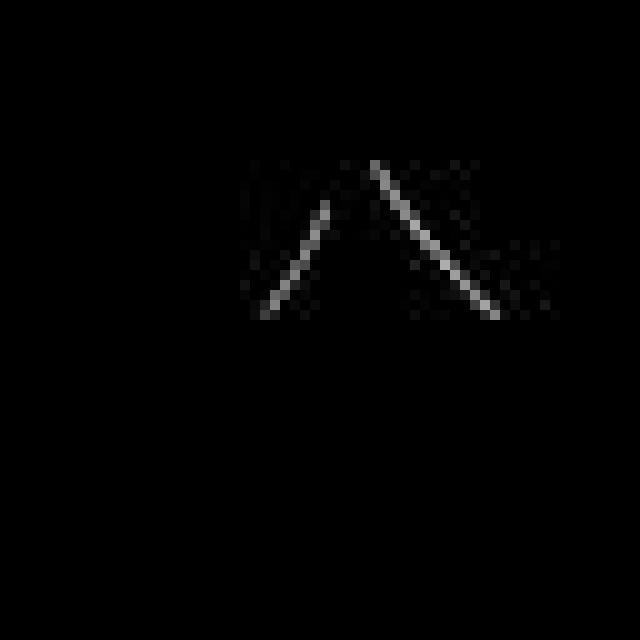8 -eight-: (251, 153, 512, 338)
